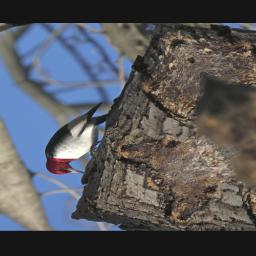Woodpecker: (14, 99, 149, 188)
